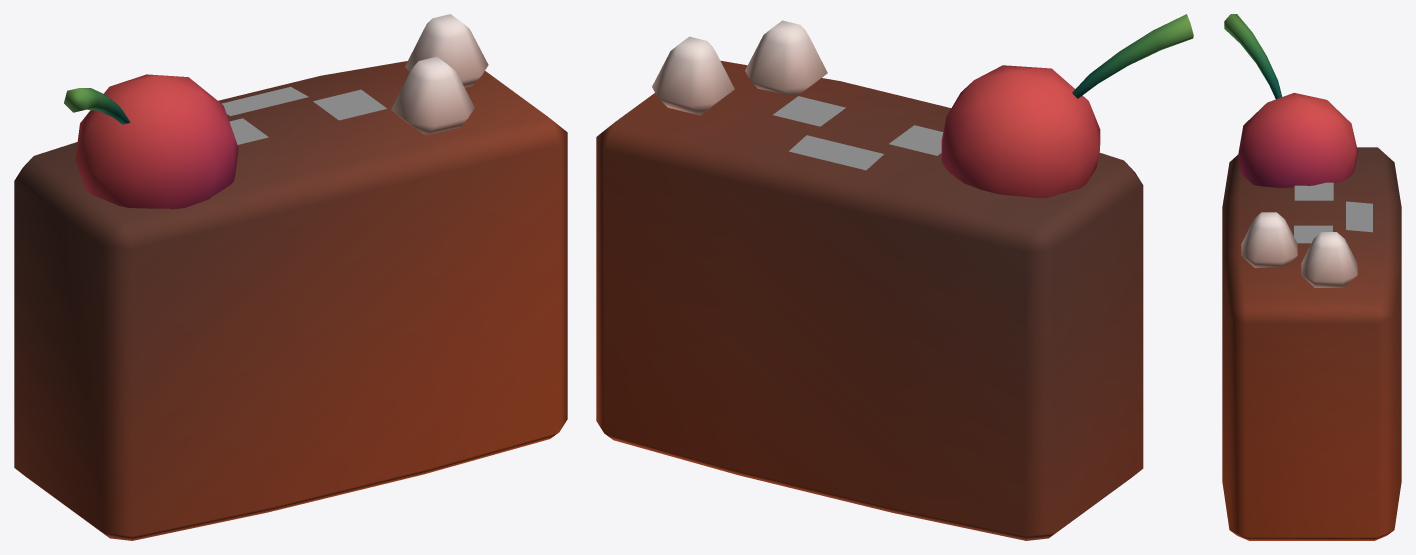
The model's file is buscuit_chocolate_smile.fbx.
3 renders of one model, left to right at view 1: azimuth 30°, elevation 25°; view 2: azimuth 150°, elevation 25°; view 3: azimuth 270°, elevation 25°, orthographic. The views are drawn at different scales.
Parts seen in each view (by area): view 1: buscuit_chocolate, meringue, smile, cherry_stalk; view 2: buscuit_chocolate, meringue, smile, cherry_stalk; view 3: buscuit_chocolate, meringue, smile, cherry_stalk.
Boxes of the visible parts, x1,y1,x2,y2 form: buscuit_chocolate: [14, 61, 567, 540]; meringue: [391, 14, 488, 134]; smile: [222, 86, 386, 144]; cherry_stalk: [64, 88, 129, 124]; buscuit_chocolate: [596, 60, 1143, 540]; meringue: [652, 20, 827, 115]; smile: [773, 96, 943, 170]; cherry_stalk: [1072, 14, 1193, 98]; buscuit_chocolate: [1222, 92, 1401, 540]; meringue: [1241, 212, 1357, 287]; smile: [1294, 182, 1372, 243]; cherry_stalk: [1224, 14, 1282, 99].
Bounding box in the file's own units: 124 × 110 × 50.99.
